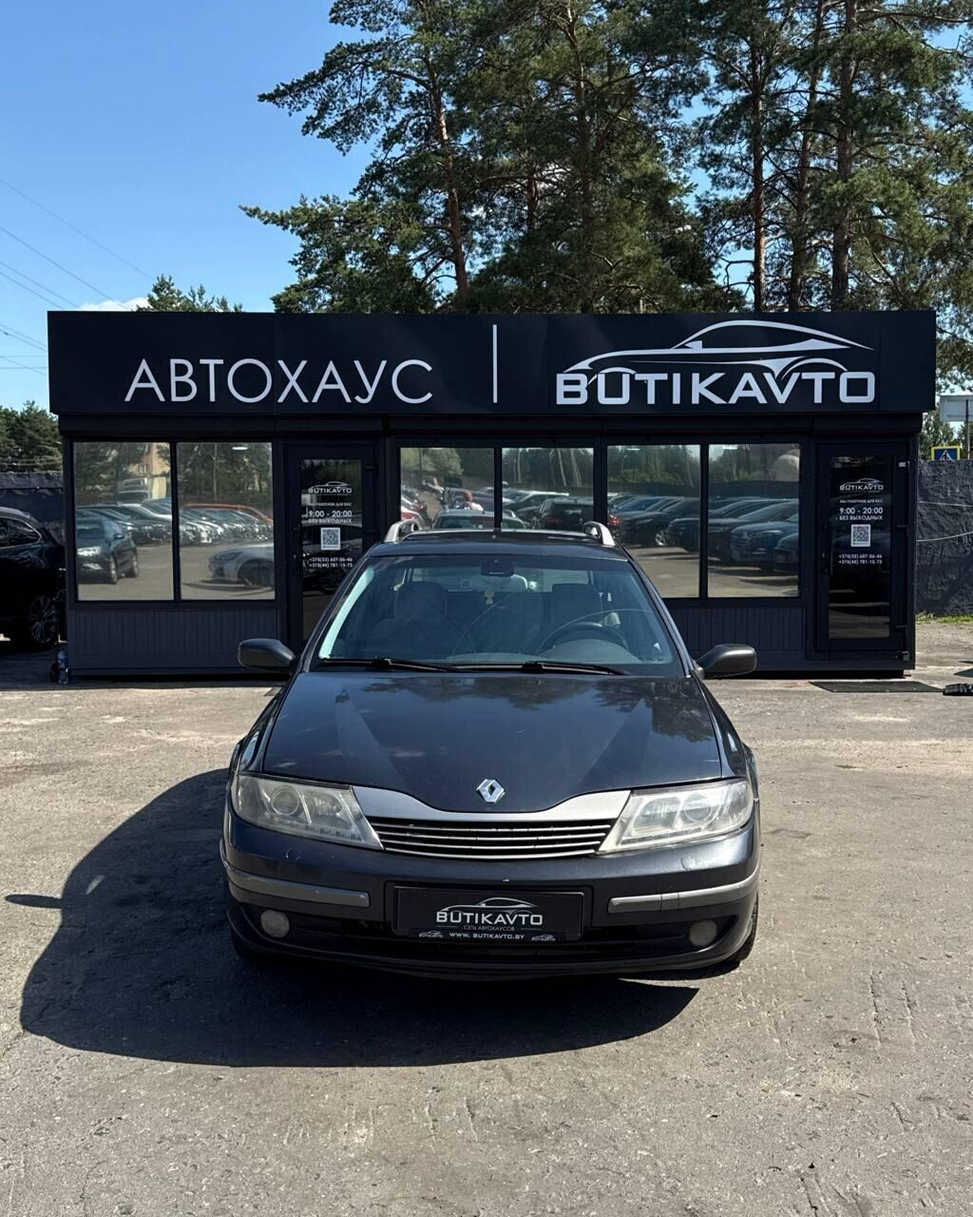Laguna_2001-2005: (219, 525, 759, 977)
